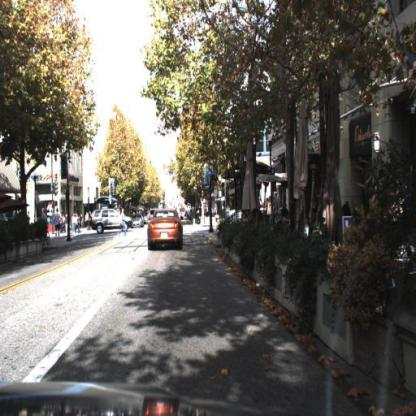car: (146, 208, 188, 255), (89, 207, 134, 236), (129, 213, 145, 231)
pedestrian: (54, 207, 64, 244), (120, 208, 128, 236), (158, 199, 166, 217)
trafficLight-Red: (196, 171, 202, 188)
